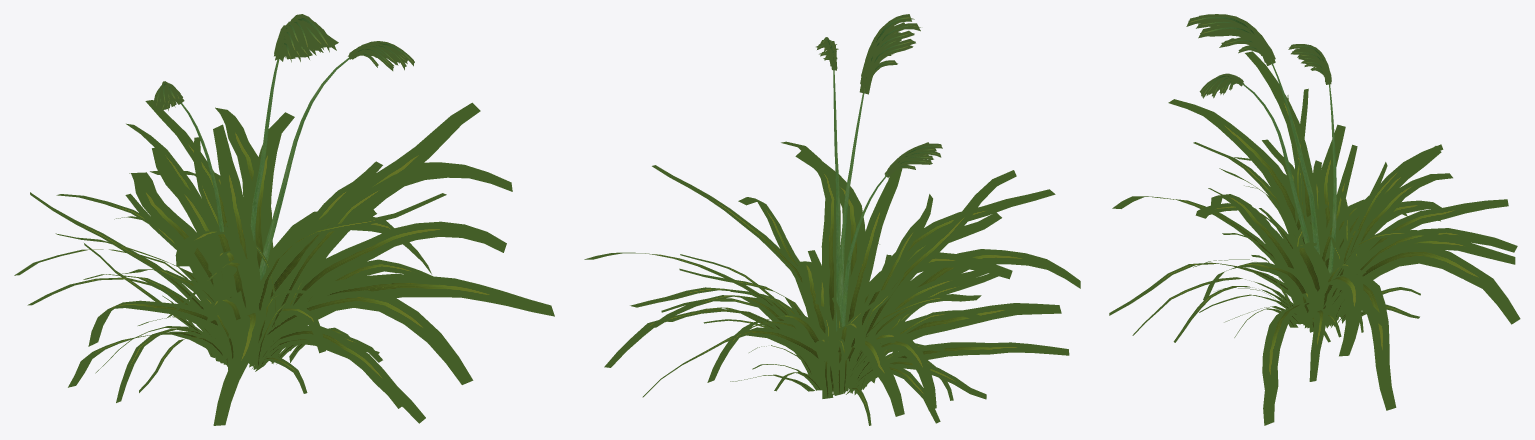
The model's file is plant3.FBX.
The picture shows the model from 3 angles, left to right: view 1: azimuth 30°, elevation 25°; view 2: azimuth 150°, elevation 25°; view 3: azimuth 270°, elevation 25°; orthographic projection. The views are drawn at different scales.
Visible parts, largest first — view 1: plant3_LOD0; view 2: plant3_LOD0; view 3: plant3_LOD0.
Part boxes in pixels (x1,y1,x2,y2): plant3_LOD0: [14, 14, 554, 425]; plant3_LOD0: [584, 14, 1080, 425]; plant3_LOD0: [1109, 14, 1520, 425].
Size of what is drawn, in the model's own units: 0.6198 by 0.4525 by 0.5455.
